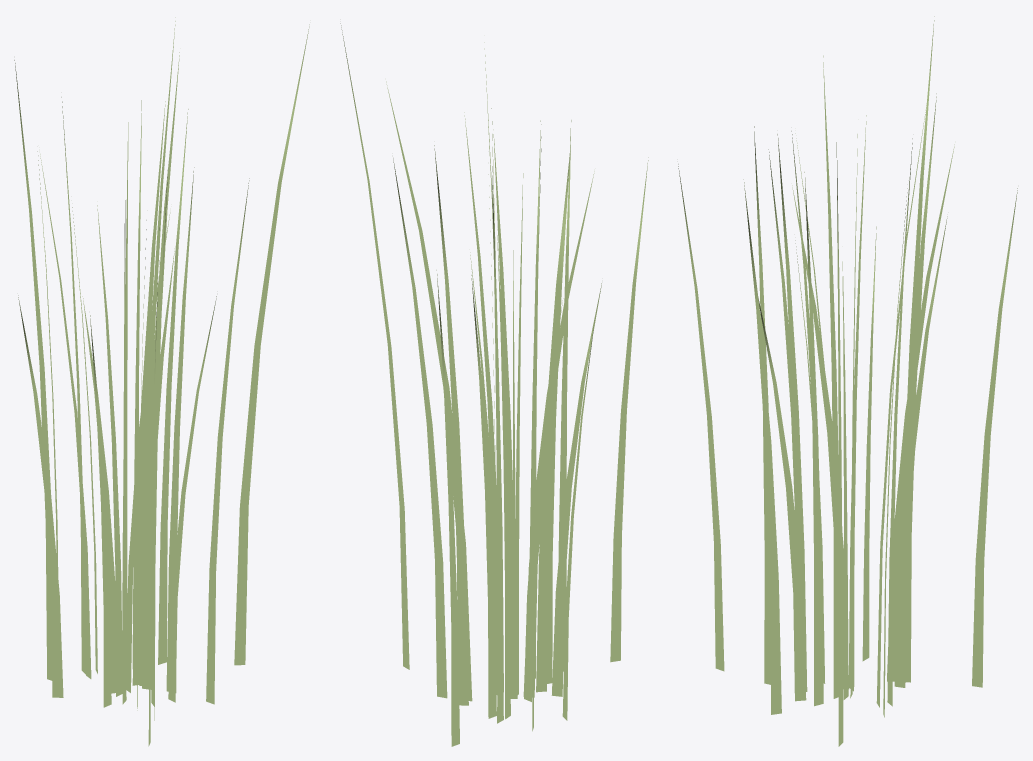
The model's file is Juncos.fbx.
3 renders of one model, left to right at view 1: azimuth 30°, elevation 25°; view 2: azimuth 150°, elevation 25°; view 3: azimuth 270°, elevation 25°, orthographic. The views are drawn at different scales.
Parts seen in each view (by area): view 1: Juncos; view 2: Juncos; view 3: Juncos.
Part boxes in pixels (x1,y1,x2,y2): Juncos: [14, 17, 309, 746]; Juncos: [340, 23, 648, 746]; Juncos: [678, 16, 1017, 746].
Size of the model in its own units: 0.7071 by 1.58 by 0.7424.
